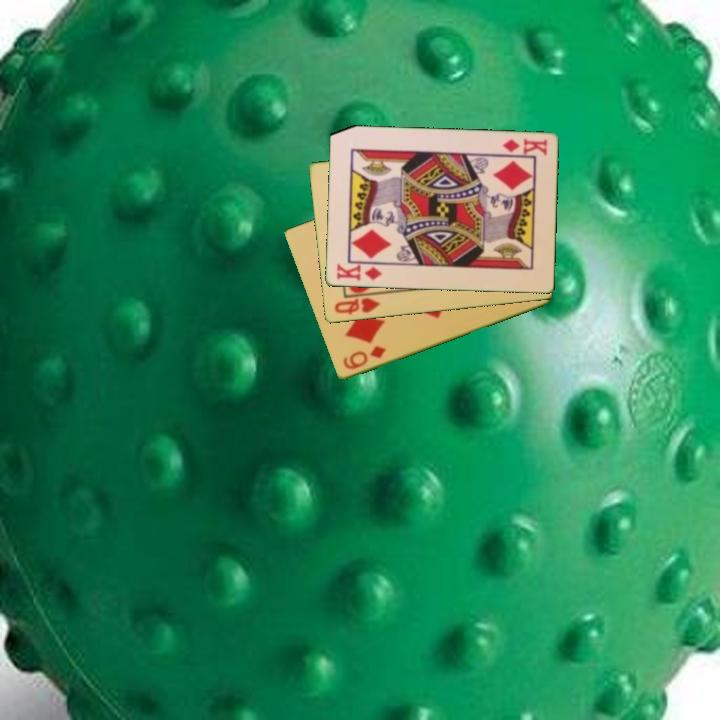6d: (339, 342, 389, 372)
Kd: (333, 261, 388, 284), (499, 135, 550, 158)
Qh: (330, 294, 383, 318)
